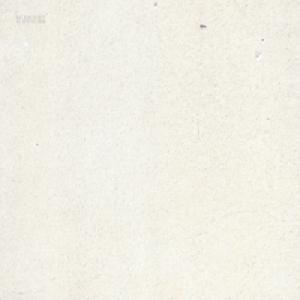Nail: (199, 23, 206, 28)
